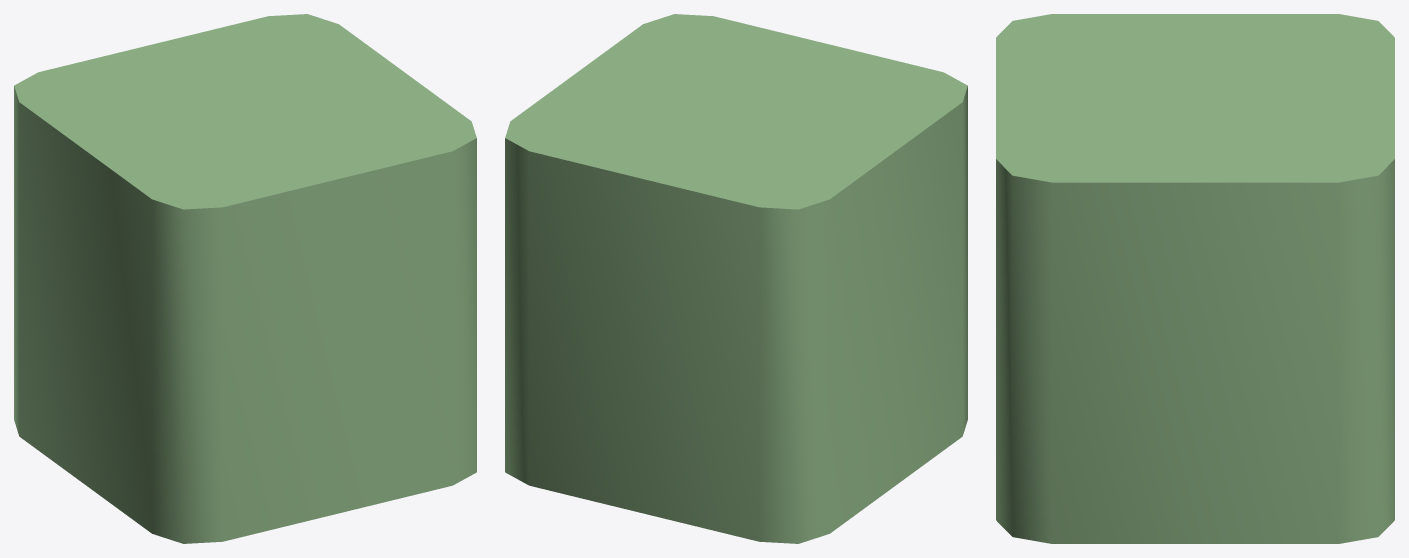
File: shrub-box.glb
3 renders of one model, left to right at view 1: azimuth 30°, elevation 25°; view 2: azimuth 150°, elevation 25°; view 3: azimuth 270°, elevation 25°, orthographic. The views are drawn at different scales.
Parts seen in each view (by area): view 1: shrub-box; view 2: shrub-box; view 3: shrub-box.
Part boxes in pixels (bbox=[...]): shrub-box: bbox=[14, 14, 476, 543]; shrub-box: bbox=[505, 14, 967, 543]; shrub-box: bbox=[996, 14, 1394, 543].
Bounding box in the file's own units: 1 × 1 × 1.
